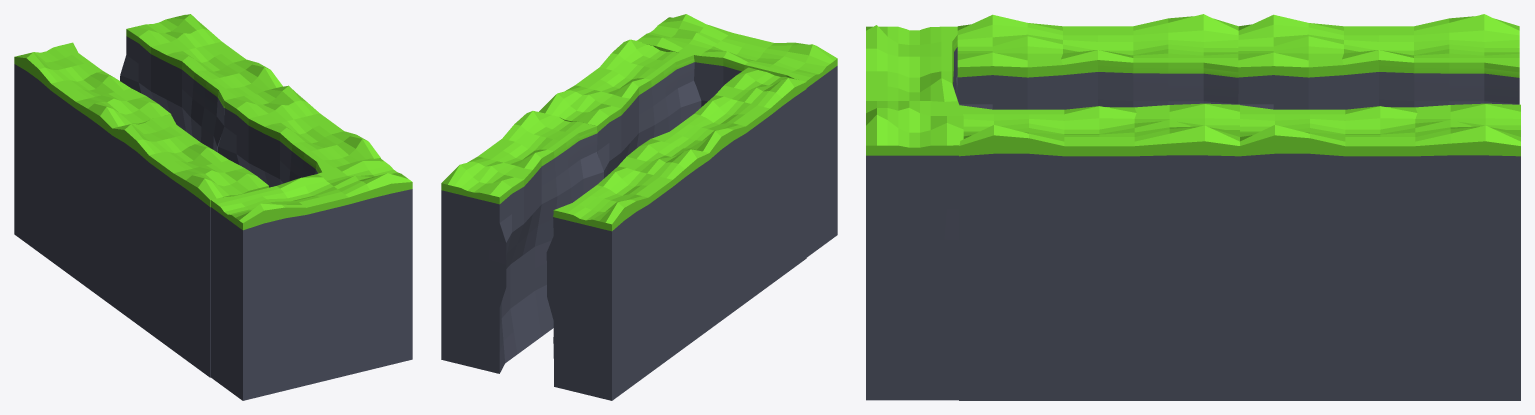
File: BlockSet10.dae
3 views of the same model, side by side, from view 1: azimuth 30°, elevation 25°; view 2: azimuth 150°, elevation 25°; view 3: azimuth 270°, elevation 25° (orthographic). The views are drawn at different scales.
Visible parts, largest first — view 1: BlockSet10Fin; view 2: BlockSet10Fin; view 3: BlockSet10Fin.
Boxes of the visible parts, box(x1,y1,x2,y2) form: BlockSet10Fin: box(14, 14, 412, 400); BlockSet10Fin: box(441, 14, 837, 400); BlockSet10Fin: box(866, 14, 1520, 400).
Size of the model in its own units: 157 by 166 by 362.
